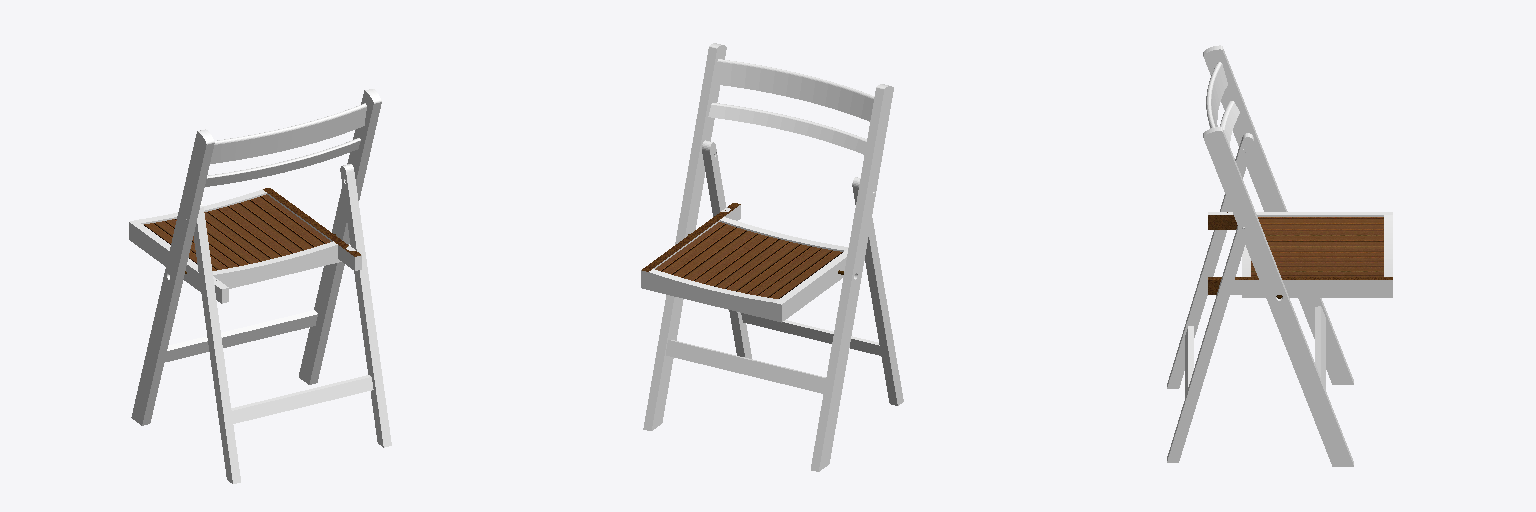
3 renders of one model, left to right at view 1: azimuth 30°, elevation 25°; view 2: azimuth 150°, elevation 25°; view 3: azimuth 270°, elevation 25°, orthographic.
Visible parts, largest first — view 1: mesh1_mesh1-geometry, mesh6_mesh6-geometry; view 2: mesh1_mesh1-geometry, mesh6_mesh6-geometry; view 3: mesh1_mesh1-geometry.
Part boxes in pixels (bbox=[...]): mesh1_mesh1-geometry: bbox=[129, 89, 391, 483]; mesh6_mesh6-geometry: bbox=[205, 138, 360, 186]; mesh1_mesh1-geometry: bbox=[641, 43, 903, 471]; mesh6_mesh6-geometry: bbox=[708, 103, 866, 154]; mesh1_mesh1-geometry: bbox=[1167, 45, 1392, 466].
Size of the model in its own units: 0.4251 by 0.7723 by 0.472.
9 materials, 5 textured.